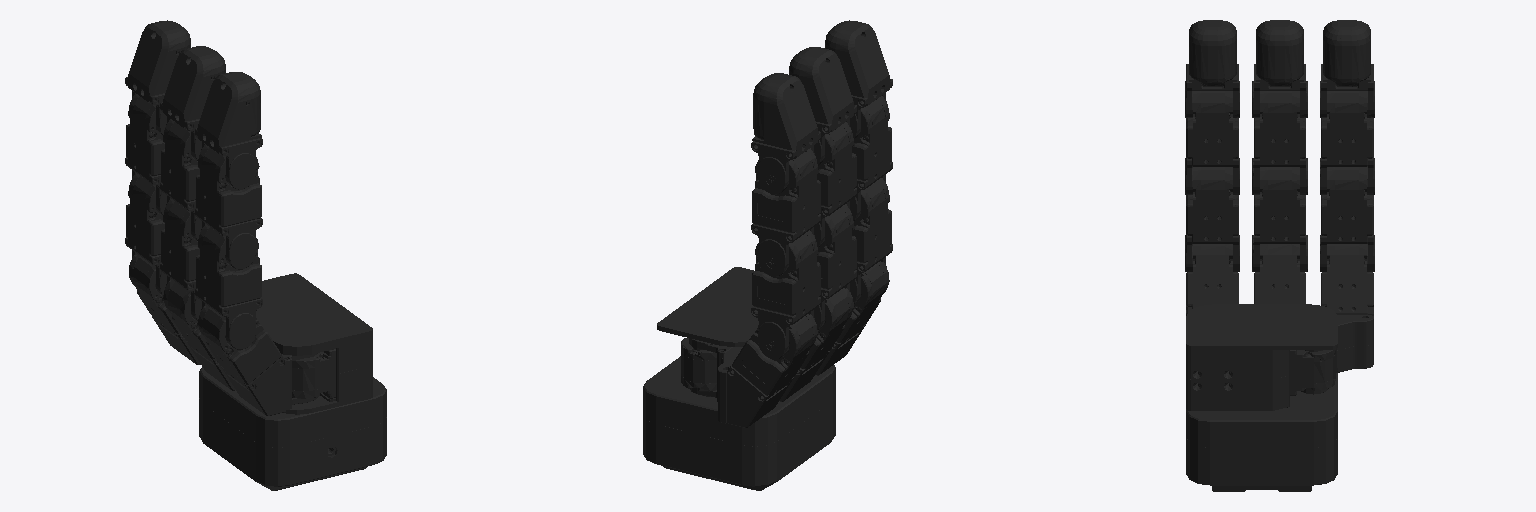
robot.urdf — hx3_d11_right:
<?xml version="1.0" encoding="UTF-8"?>
<robot name="hx3_d11_right">
   <link name="hx3_d11_right_base">
      <visual>
         <origin xyz="0 0 0" rpy="0 0 0" />
         <geometry>
            <mesh filename="package://hx3_d11/meshes/hx3_d11_base_unit.stl" scale="0.001 0.001 0.001" />
         </geometry>
         <material name="grey">
            <color rgba="0.2 0.2 0.2 1" />
         </material>
      </visual>
   </link>
   <joint name="finger_base" type="fixed">
      <parent link="hx3_d11_right_base" />
      <child link="finger_base_link" />
      <origin xyz="0.0 0.0 0.0505" rpy="0 0 0" />
   </joint>
   <link name="finger_base_link">
      <visual>
         <origin xyz="0 0 0" rpy="0 0 0"/>
         <geometry>
         <box size="0.01 0.01 0.01" />
         </geometry>
         <material name="red">
         <color rgba="1.0 0.0 0.0 1"/>
         </material>
      </visual>
   </link>

   <!-- Finger 1 -->
   <joint name="finger_r_joint_1" type="revolute">
      <parent link="finger_base_link" />
      <child link="finger_r_link1" />
      <origin xyz="0.00287 0.0215 0.0" rpy="0 0 0" />
      <axis xyz="0 0 1" />
      <limit velocity="4.8" effort="1000" lower="-3.14" upper="0.0" />
      <dynamics damping="0.05" />
   </joint>
   <link name="finger_r_link1">
      <visual>
         <origin xyz="0 0 0" rpy="0 0 0" />
         <geometry>
            <mesh filename="package://hx3_d11/meshes/hx3_d11_finger1_rot.stl" scale="0.001 0.001 0.001" />
         </geometry>
         <material name="grey">
            <color rgba="0.2 0.2 0.2 1" />
         </material>
      </visual>
   </link>
   <joint name="finger_r_joint_2" type="revolute">
      <parent link="finger_r_link1" />
      <child link="finger_r_link2" />
      <origin xyz="-0.0445 0.014 0.028" rpy="0 0 0" />
      <axis xyz="0 1 0" />
      <limit velocity="4.8" effort="1000" lower="-2.0" upper="1.0" />
      <dynamics damping="0.05" />
   </joint>
   <link name="finger_r_link2">
      <visual>
         <origin xyz="0 0 0" rpy="0 0 0" />
         <geometry>
            <mesh filename="package://hx3_d11/meshes/hx3_d11_finger_joint.stl" scale="0.001 0.001 0.001" />
         </geometry>
         <material name="grey">
            <color rgba="0.2 0.2 0.2 1" />
         </material>
      </visual>
   </link>
   <joint name="finger_r_joint_3" type="revolute">
      <parent link="finger_r_link2" />
      <child link="finger_r_link3" />
      <origin xyz="0.0 0.0 0.0355" rpy="0 0 0" />
      <axis xyz="0 1 0" />
      <limit velocity="4.8" effort="1000" lower="-1.57" upper="1.57" />
      <dynamics damping="0.05" />
   </joint>
   <link name="finger_r_link3">
      <visual>
         <origin xyz="0 0 0" rpy="0 0 0" />
         <geometry>
            <mesh filename="package://hx3_d11/meshes/hx3_d11_finger_joint.stl" scale="0.001 0.001 0.001" />
         </geometry>
         <material name="grey">
            <color rgba="0.2 0.2 0.2 1" />
         </material>
      </visual>
   </link>
   <joint name="finger_r_joint_4" type="revolute">
      <parent link="finger_r_link3" />
      <child link="finger_r_link4" />
      <origin xyz="0.0 0.0 0.0355" rpy="0 0 0" />
      <axis xyz="0 1 0" />
      <limit velocity="4.8" effort="1000" lower="-1.57" upper="1.57" />
      <dynamics damping="0.05" />
   </joint>
   <link name="finger_r_link4">
      <visual>
         <origin xyz="0 0 0" rpy="0 0 0" />
         <geometry>
            <mesh filename="package://hx3_d11/meshes/hx3_d11_finger_tip.stl" scale="0.001 0.001 0.001" />
         </geometry>
         <material name="grey">
            <color rgba="0.2 0.2 0.2 1" />
         </material>
      </visual>
   </link>

   <!-- Finger 2 -->
   <joint name="finger_r_joint_5" type="revolute">
      <parent link="finger_base_link" />
      <child link="finger_r_link5" />
      <origin xyz="-0.04163 0.0075 0.028" rpy="0 0 0" />
      <axis xyz="0 1 0" />
      <limit velocity="4.8" effort="1000" lower="-2.0" upper="1.0" />
      <dynamics damping="0.05" />
   </joint>
   <link name="finger_r_link5">
      <visual>
         <origin xyz="0 0 0" rpy="0 0 0" />
         <geometry>
            <mesh filename="package://hx3_d11/meshes/hx3_d11_finger_joint.stl" scale="0.001 0.001 0.001" />
         </geometry>
         <material name="grey">
            <color rgba="0.2 0.2 0.2 1" />
         </material>
      </visual>
   </link>
   <joint name="finger_r_joint_6" type="revolute">
      <parent link="finger_r_link5" />
      <child link="finger_r_link6" />
      <origin xyz="0.0 0.0 0.0355" rpy="0 0 0" />
      <axis xyz="0 1 0" />
      <limit velocity="4.8" effort="1000" lower="-1.57" upper="1.57" />
      <dynamics damping="0.05" />
   </joint>
   <link name="finger_r_link6">
      <visual>
         <origin xyz="0 0 0" rpy="0 0 0" />
         <geometry>
            <mesh filename="package://hx3_d11/meshes/hx3_d11_finger_joint.stl" scale="0.001 0.001 0.001" />
         </geometry>
         <material name="grey">
            <color rgba="0.2 0.2 0.2 1" />
         </material>
      </visual>
   </link>
   <joint name="finger_r_joint_7" type="revolute">
      <parent link="finger_r_link6" />
      <child link="finger_r_link7" />
      <origin xyz="0.0 0.0 0.0355" rpy="0 0 0" />
      <axis xyz="0 1 0" />
      <limit velocity="4.8" effort="1000" lower="-1.57" upper="1.57" />
      <dynamics damping="0.05" />
   </joint>
   <link name="finger_r_link7">
      <visual>
         <origin xyz="0 0 0" rpy="0 0 0" />
         <geometry>
            <mesh filename="package://hx3_d11/meshes/hx3_d11_finger_tip.stl" scale="0.001 0.001 0.001" />
         </geometry>
         <material name="grey">
            <color rgba="0.2 0.2 0.2 1" />
         </material>
      </visual>
   </link>

   <!-- Finger 3 -->
   <joint name="finger_r_joint_8" type="revolute">
      <parent link="finger_base_link" />
      <child link="finger_r_link8" />
      <origin xyz="-0.00713 -0.0205 0.0" rpy="0 0 0" />
      <axis xyz="0 0 1" />
      <limit velocity="4.8" effort="1000" lower="0.0" upper="1.57" />
      <dynamics damping="0.05" />
   </joint>
   <link name="finger_r_link8">
      <visual>
         <origin xyz="0 0 0" rpy="0 0 0" />
         <geometry>
            <mesh filename="package://hx3_d11/meshes/hx3_d11_finger3_rot.stl" scale="0.001 0.001 0.001" />
         </geometry>
         <material name="grey">
            <color rgba="0.2 0.2 0.2 1" />
         </material>
      </visual>
   </link>
   <joint name="finger_r_joint_9" type="revolute">
      <parent link="finger_r_link8" />
      <child link="finger_r_link9" />
      <origin xyz="-0.0345 0.0 0.028" rpy="0 0 0" />
      <axis xyz="0 1 0" />
      <limit velocity="4.8" effort="1000" lower="-2.0" upper="1.0" />
      <dynamics damping="0.05" />
   </joint>
   <link name="finger_r_link9">
      <visual>
         <origin xyz="0 0 0" rpy="0 0 0" />
         <geometry>
            <mesh filename="package://hx3_d11/meshes/hx3_d11_finger_joint.stl" scale="0.001 0.001 0.001" />
         </geometry>
         <material name="grey">
            <color rgba="0.2 0.2 0.2 1" />
         </material>
      </visual>
   </link>
   <joint name="finger_r_joint_10" type="revolute">
      <parent link="finger_r_link9" />
      <child link="finger_r_link10" />
      <origin xyz="0.0 0.0 0.0355" rpy="0 0 0" />
      <axis xyz="0 1 0" />
      <limit velocity="4.8" effort="1000" lower="-1.57" upper="1.57" />
      <dynamics damping="0.05" />
   </joint>
   <link name="finger_r_link10">
      <visual>
         <origin xyz="0 0 0" rpy="0 0 0" />
         <geometry>
            <mesh filename="package://hx3_d11/meshes/hx3_d11_finger_joint.stl" scale="0.001 0.001 0.001" />
         </geometry>
         <material name="grey">
            <color rgba="0.2 0.2 0.2 1" />
         </material>
      </visual>
   </link>
   <joint name="finger_r_joint_11" type="revolute">
      <parent link="finger_r_link10" />
      <child link="finger_r_link11" />
      <origin xyz="0.0 0.0 0.0355" rpy="0 0 0" />
      <axis xyz="0 1 0" />
      <limit velocity="4.8" effort="1000" lower="-1.57" upper="1.57" />
      <dynamics damping="0.05" />
   </joint>
   <link name="finger_r_link11">
      <visual>
         <origin xyz="0 0 0" rpy="0 0 0" />
         <geometry>
            <mesh filename="package://hx3_d11/meshes/hx3_d11_finger_tip.stl" scale="0.001 0.001 0.001" />
         </geometry>
         <material name="grey">
            <color rgba="0.2 0.2 0.2 1" />
         </material>
      </visual>
   </link>
</robot>

--- Facts derived from the render (not from the file) ---
The picture shows the robot from 3 angles, left to right: view 1: azimuth 30°, elevation 25°; view 2: azimuth 150°, elevation 25°; view 3: azimuth 270°, elevation 25°; orthographic projection.
Model hx3_d11_right with 13 links and 12 joints (11 revolute, 1 fixed), rooted at hx3_d11_right_base, posed every joint at zero.
Links seen in each view (by area): view 1: hx3_d11_right_base, finger_r_link11, finger_r_link8, finger_r_link9, finger_r_link10, finger_r_link4, finger_r_link7, finger_r_link5, finger_r_link2, finger_r_link3, finger_r_link6, finger_r_link1; view 2: hx3_d11_right_base, finger_r_link1, finger_r_link4, finger_r_link2, finger_r_link3, finger_r_link7, finger_r_link11, finger_r_link5, finger_r_link6, finger_r_link9, finger_r_link10, finger_r_link8; view 3: hx3_d11_right_base, finger_r_link1, finger_r_link2, finger_r_link9, finger_r_link5, finger_r_link3, finger_r_link10, finger_r_link6, finger_r_link7, finger_r_link4, finger_r_link11, finger_r_link8.
Link boxes in pixels (x1,y1,x2,y2): hx3_d11_right_base: (163, 273, 386, 490); finger_r_link11: (195, 72, 262, 189); finger_r_link8: (198, 305, 317, 415); finger_r_link9: (195, 224, 262, 349); finger_r_link10: (195, 144, 262, 269); finger_r_link4: (125, 20, 190, 135); finger_r_link7: (160, 46, 225, 160); finger_r_link5: (160, 199, 201, 321); finger_r_link2: (125, 173, 166, 296); finger_r_link3: (125, 94, 166, 215); finger_r_link6: (160, 119, 201, 240); finger_r_link1: (129, 254, 200, 364); hx3_d11_right_base: (643, 267, 853, 490); finger_r_link1: (689, 314, 817, 427); finger_r_link4: (751, 73, 820, 194); finger_r_link2: (751, 230, 820, 358); finger_r_link3: (751, 148, 820, 276); finger_r_link7: (789, 47, 856, 165); finger_r_link11: (825, 20, 892, 138); finger_r_link5: (814, 204, 856, 329); finger_r_link6: (814, 122, 856, 247); finger_r_link9: (850, 178, 892, 303); finger_r_link10: (850, 96, 892, 220); finger_r_link8: (815, 261, 889, 375); hx3_d11_right_base: (1186, 244, 1337, 491); finger_r_link1: (1301, 244, 1373, 394); finger_r_link2: (1320, 167, 1374, 271); finger_r_link9: (1185, 167, 1239, 271); finger_r_link5: (1252, 167, 1307, 271); finger_r_link3: (1320, 91, 1374, 194); finger_r_link10: (1185, 91, 1239, 194); finger_r_link6: (1252, 91, 1307, 194); finger_r_link7: (1252, 20, 1307, 117); finger_r_link4: (1320, 20, 1374, 117); finger_r_link11: (1185, 20, 1239, 117); finger_r_link8: (1186, 244, 1238, 315).
Size in the robot's own frame: 0.0806 by 0.079 by 0.1875 metres.
12 mesh visuals loaded from 5 distinct referenced files (5 binary STL).
